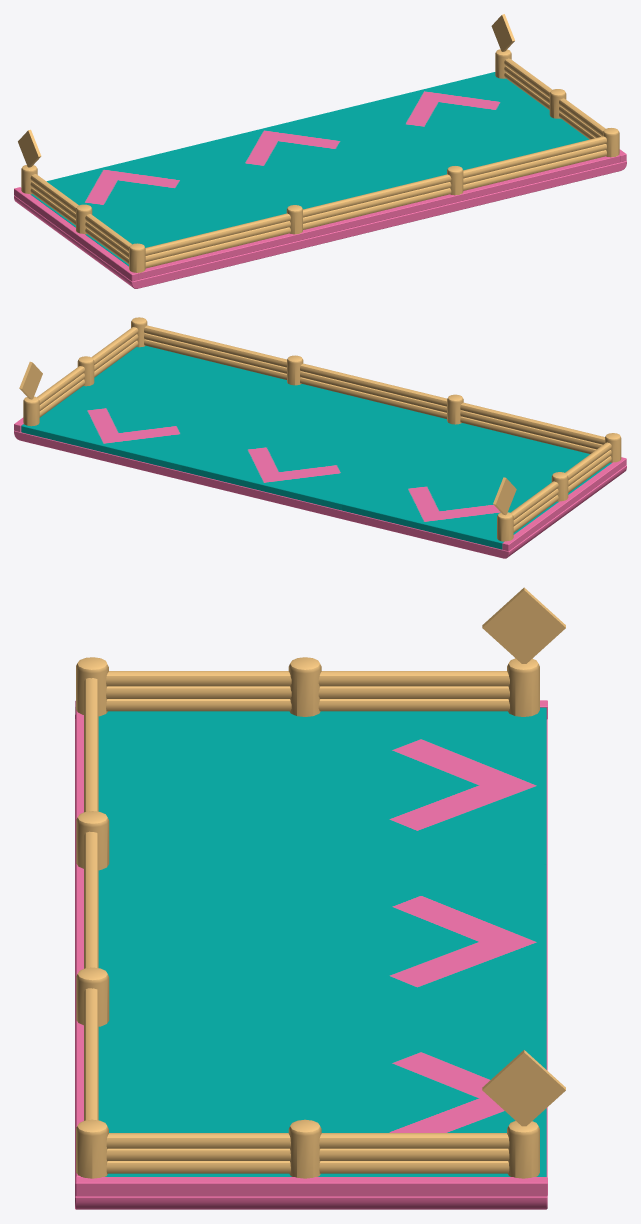
The model's file is PLF0110041.fbx.
3 renders of one model, top to bottom at view 1: azimuth 30°, elevation 25°; view 2: azimuth 150°, elevation 25°; view 3: azimuth 270°, elevation 25°, orthographic. The views are drawn at different scales.
Parts seen in each view (by area): view 1: smPLF0110041; view 2: smPLF0110041; view 3: smPLF0110041.
Boxes of the visible parts, x1=… form: smPLF0110041: x1=14, y1=14, x2=626, y2=288; smPLF0110041: x1=14, y1=317, x2=626, y2=558; smPLF0110041: x1=75, y1=587, x2=565, y2=1209.
Size of the model in its own units: 1926 by 282 by 827.
Materials: 1 (1 with a texture image).
